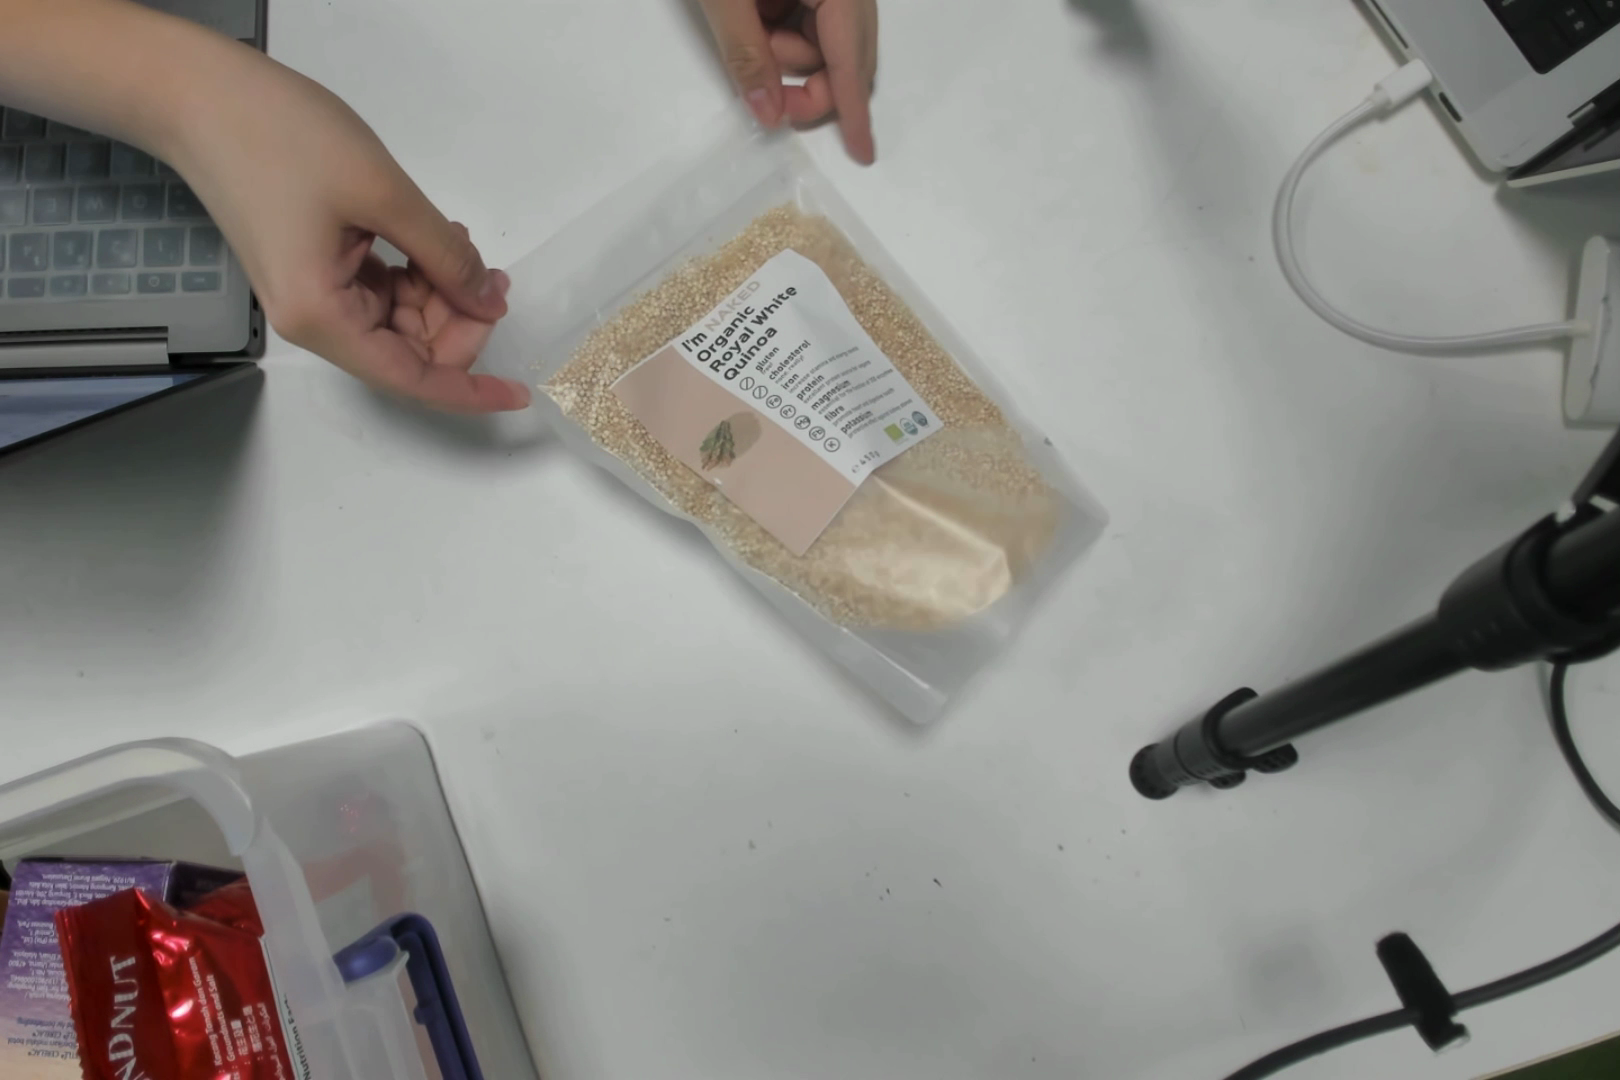Rice(brown-others)_400-499g_Halal_NonHealthy: (638, 240, 1047, 655)
